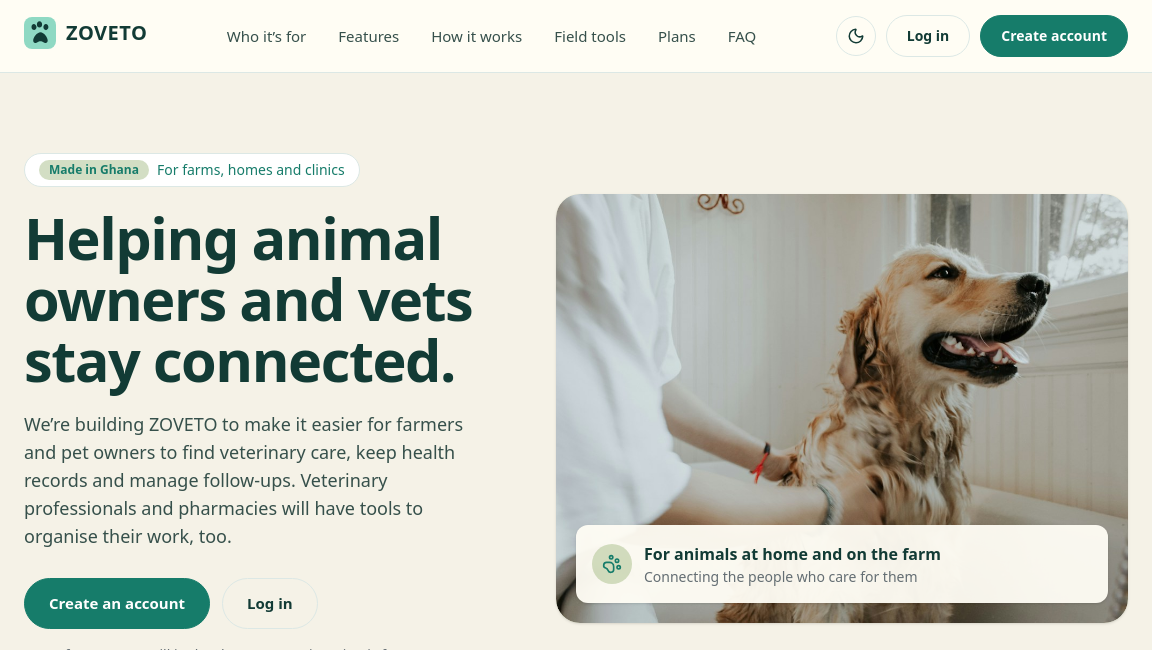
Test: landing page › creates a local role-specific profile from the registration page
Click the link "Create an account": (117,603) [24,578,210,628]
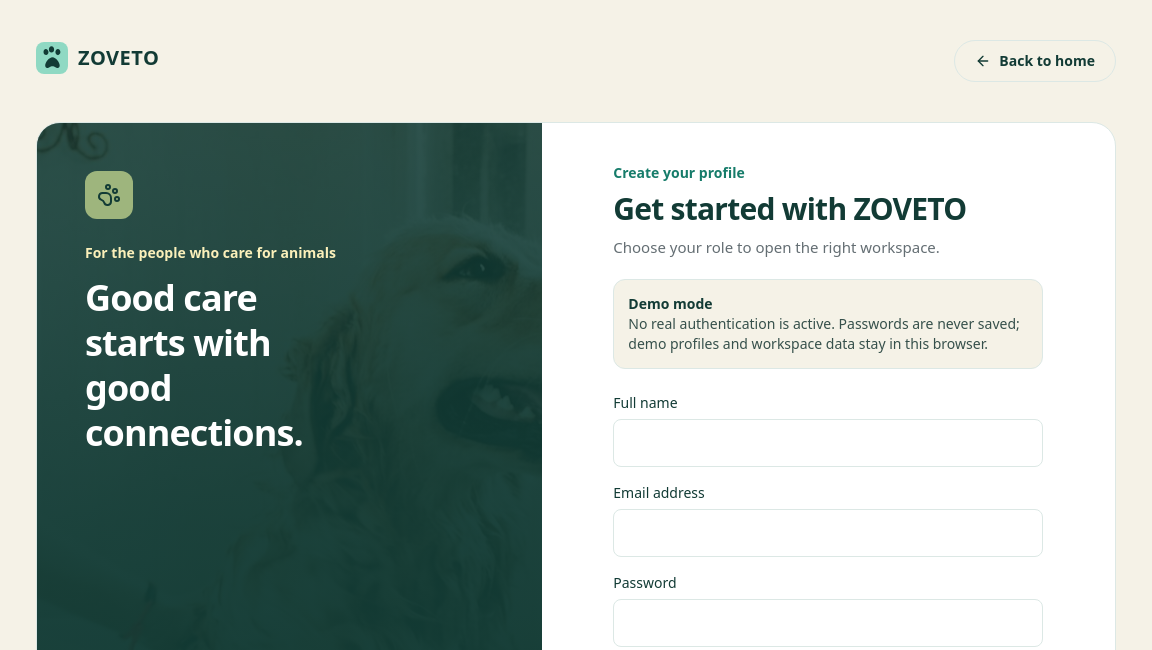
In the field labelled "Full name": (828,443) [613,419,1043,467], type "Ama Owusu"
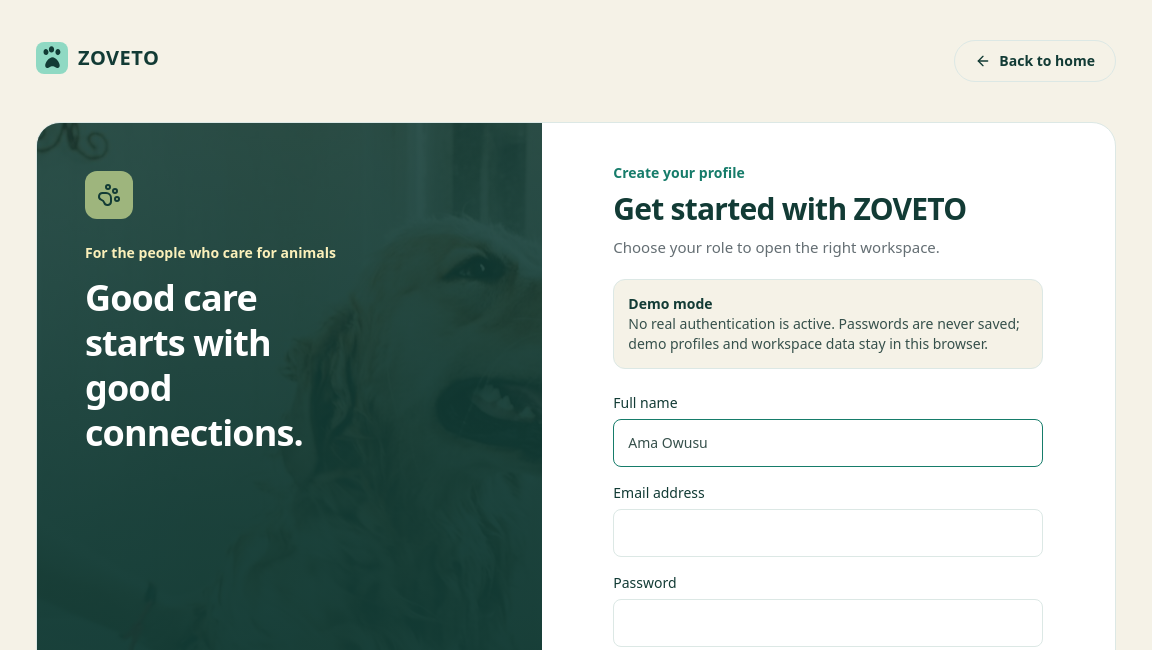
In the field labelled "Email address": (828,533) [613,509,1043,557], type "ama.owusu@example.test"
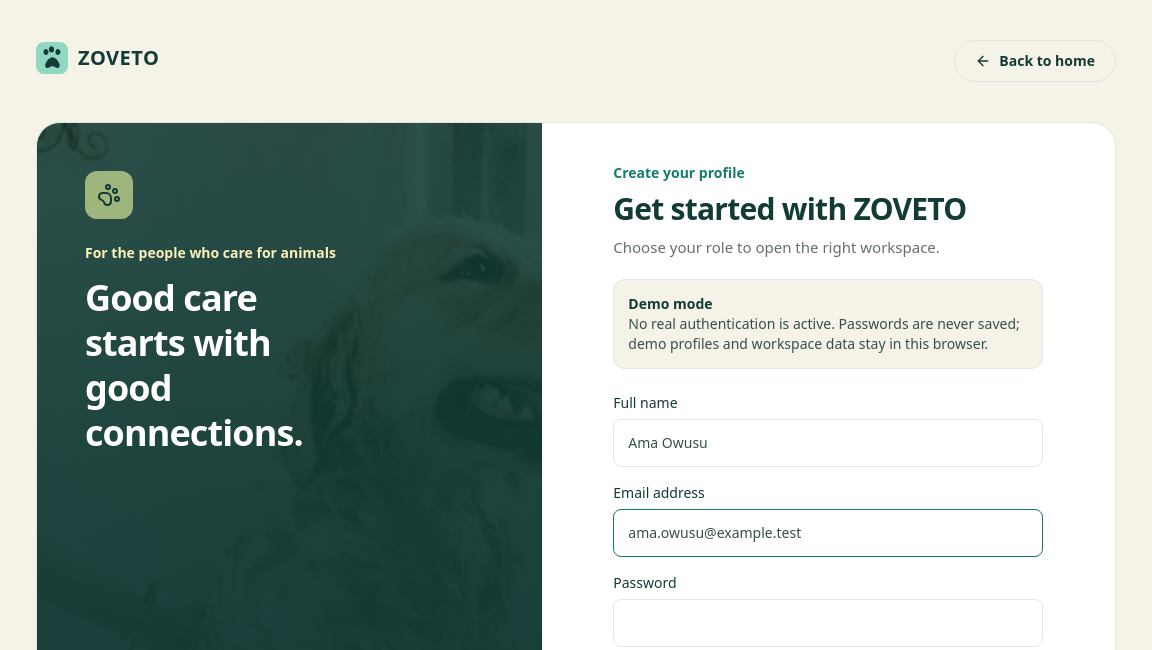
In the password field labelled "Password": (828,623) [613,599,1043,647], type "demo-password"
(page scrolled)
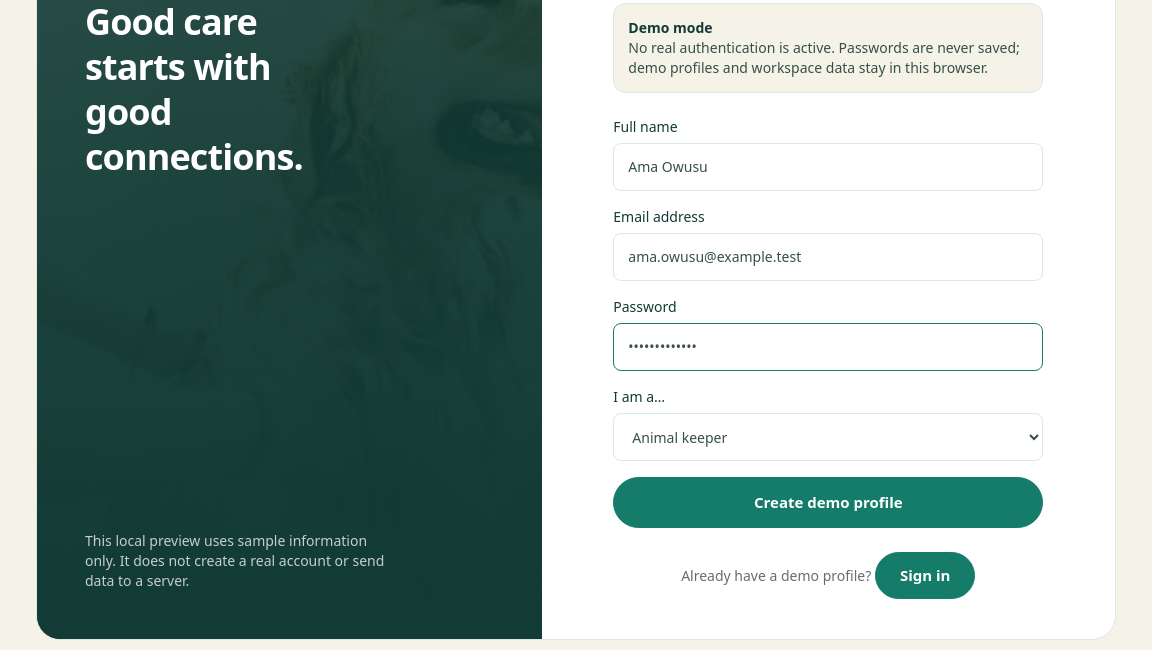
Select "Livestock farmer" in the dropdown labelled "I am a…": (828,437) [613,413,1043,461]
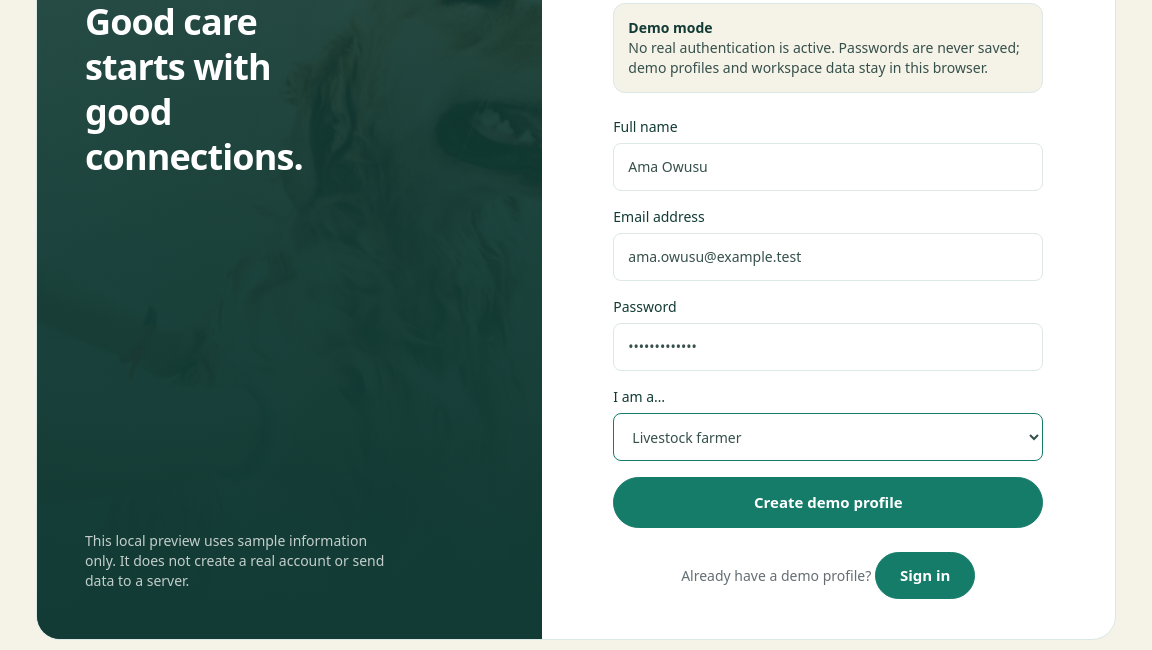
Click the button "Create demo profile": (828,503) [613,477,1043,528]
(page scrolled)
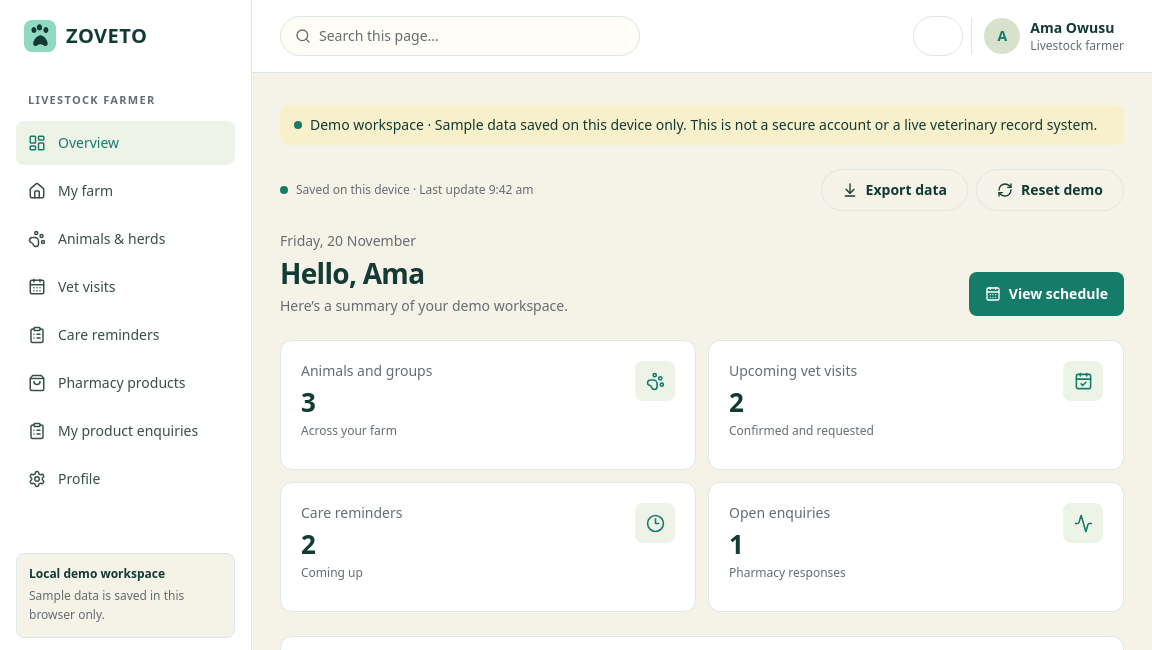
Expected: the heading "Hello, Ama" is shown, [280,254,424,292]
